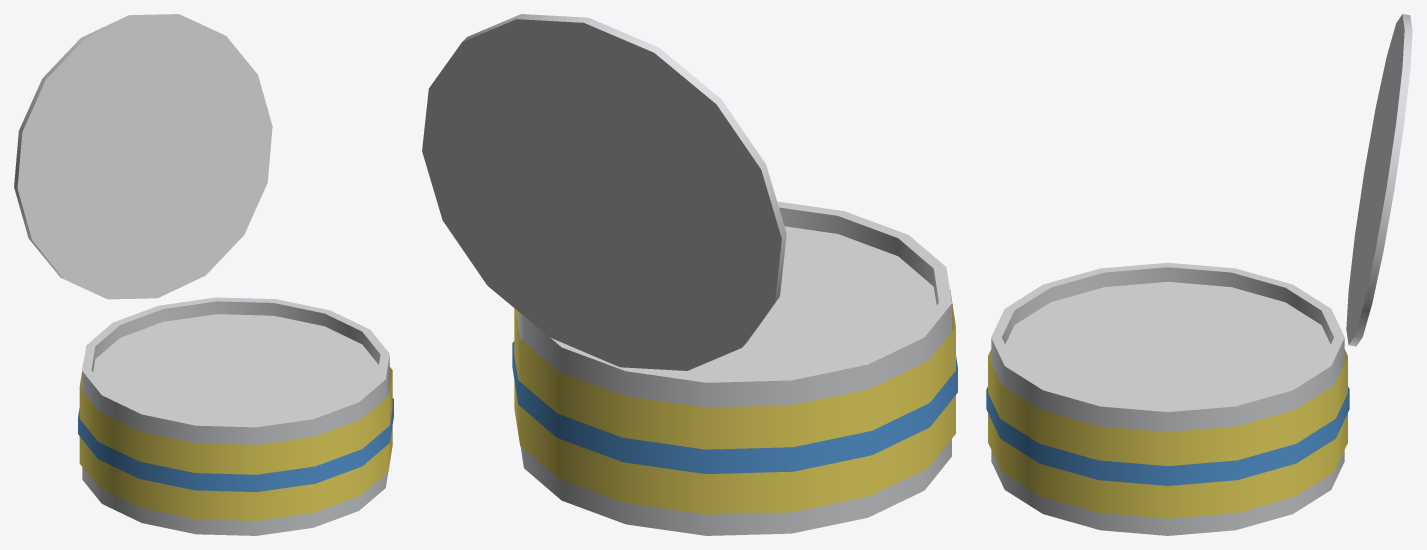
File: tin_tuna.fbx
3 renders of one model, left to right at view 1: azimuth 30°, elevation 25°; view 2: azimuth 150°, elevation 25°; view 3: azimuth 270°, elevation 25°, orthographic. The views are drawn at different scales.
Parts seen in each view (by area): view 1: tin_tuna; view 2: tin_tuna; view 3: tin_tuna.
Boxes of the visible parts, x1=… form: tin_tuna: x1=14, y1=14, x2=393, y2=535; tin_tuna: x1=422, y1=14, x2=957, y2=535; tin_tuna: x1=986, y1=14, x2=1412, y2=535.
Bounding box in the file's own units: 0.0904 × 0.1185 × 0.1061.
